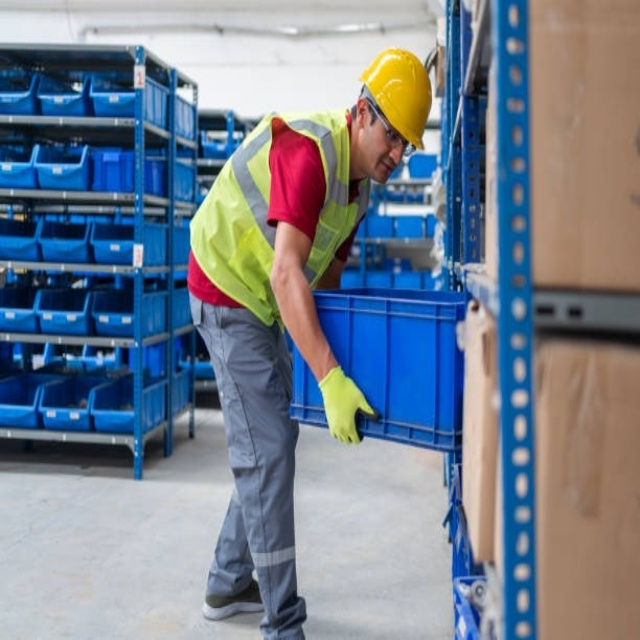Gafas: (364, 92, 416, 156)
Guantes: (318, 364, 376, 446)
Sin_mascara: (370, 156, 401, 185)
